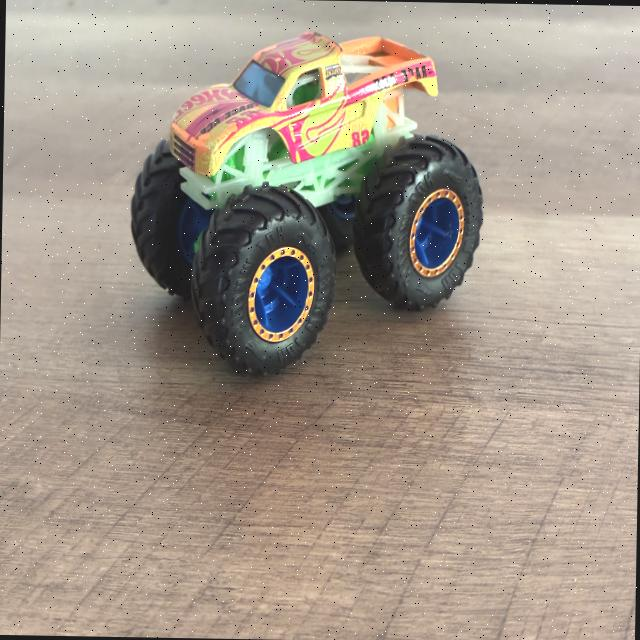cars: (131, 31, 482, 374)
